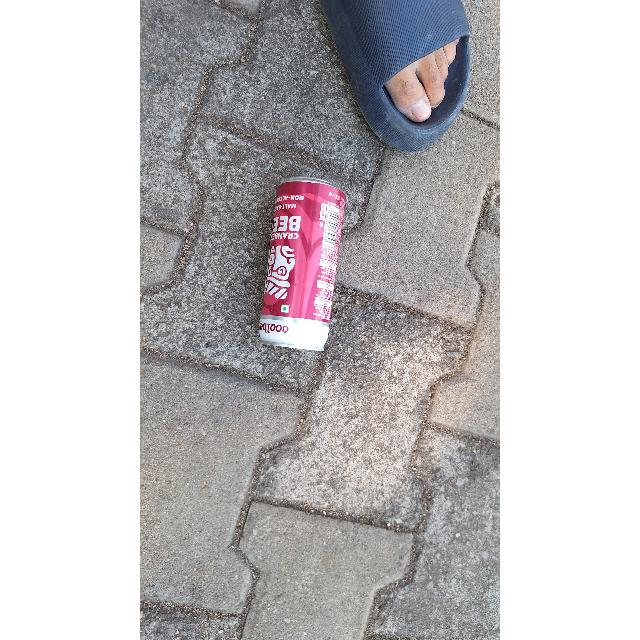Coolberg: (262, 173, 346, 351)
